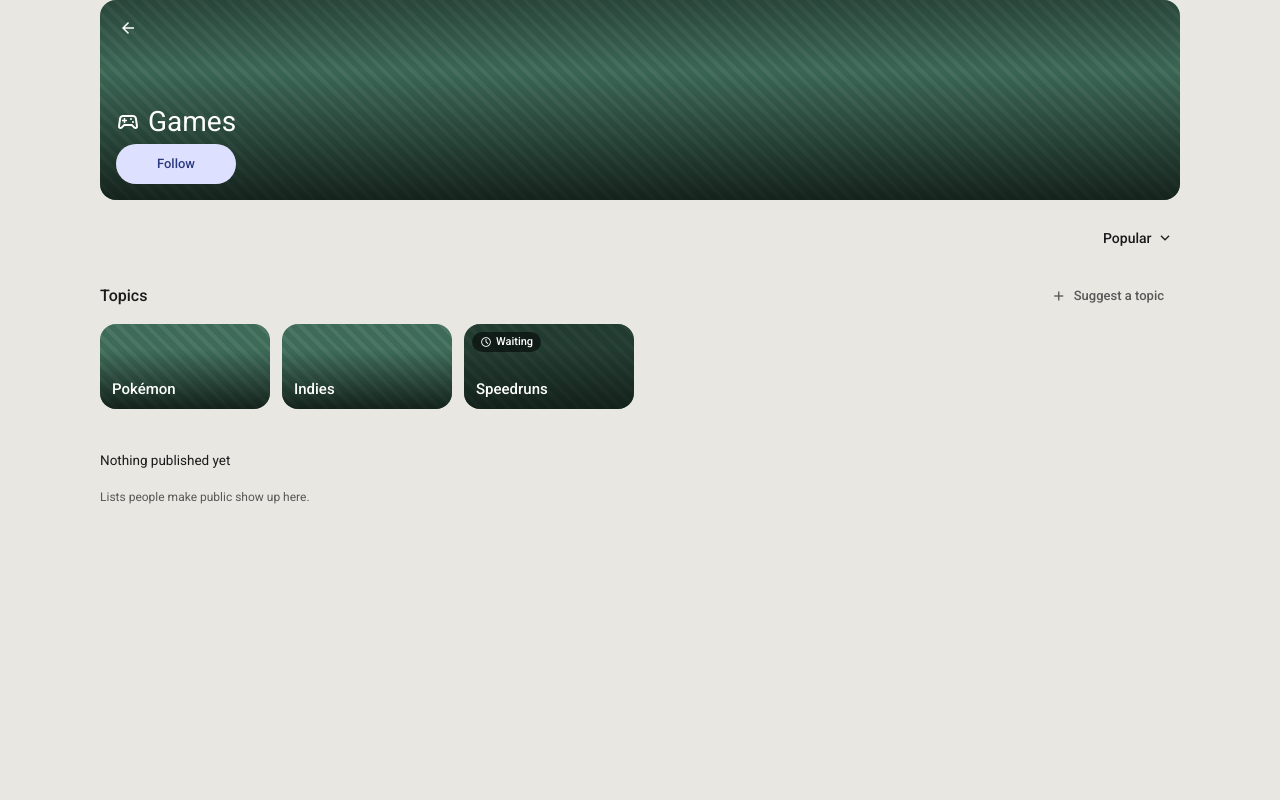
Test: SectionPage › says so when a follow does not go through
Expected: the link "Pokémon" is shown, [100, 324, 270, 409]
Click the button "Follow" at [176, 164], box [116, 144, 236, 184]
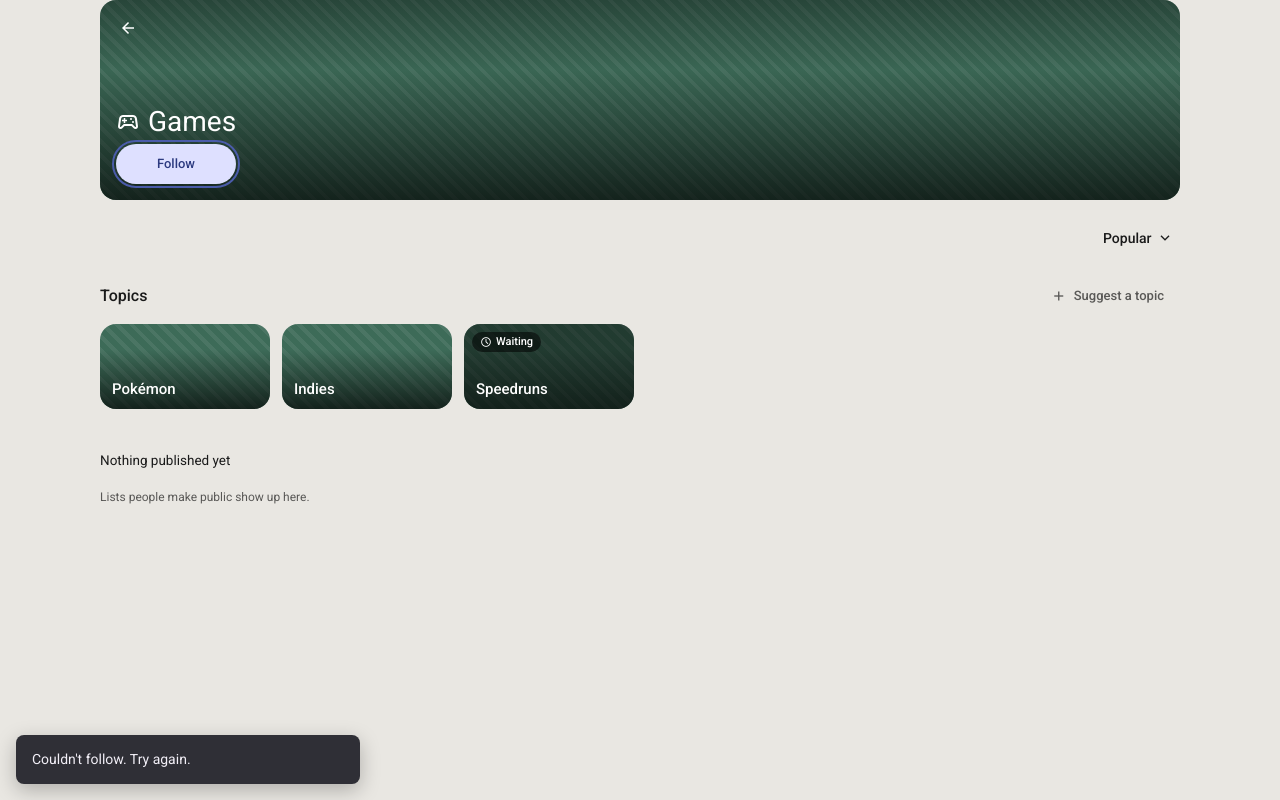
Result: the message reads "Couldn't follow. Try again." at [32, 751, 191, 767]
